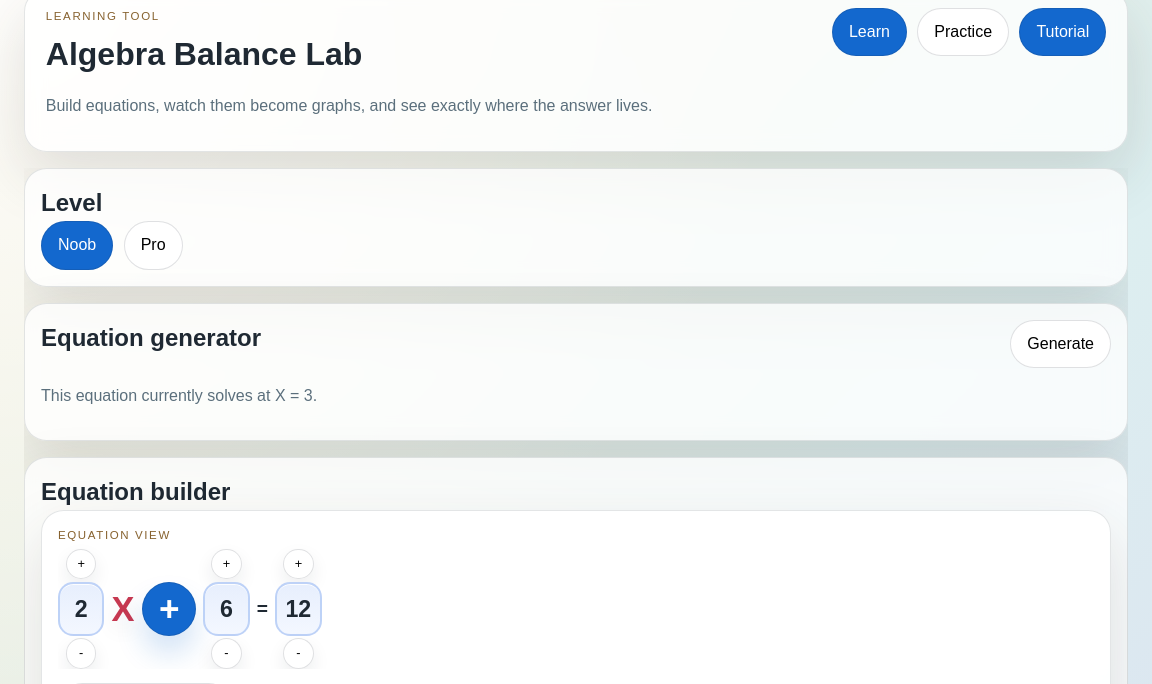
Test: Algebra Balance Lab › keeps the practice graph hidden until check passes
Step 1. Click the button "Practice" → (963, 32), box [917,8,1009,56]
(page scrolled)
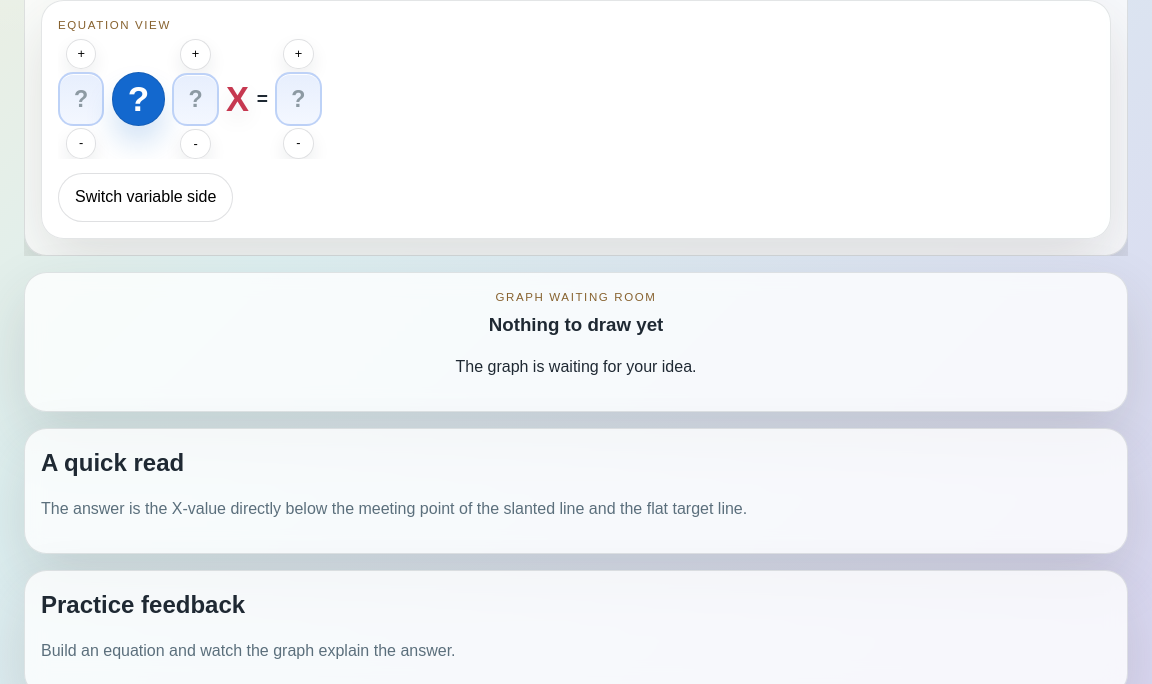
Check: the heading "Nothing to draw yet" is shown, box [489,311,663,339]
